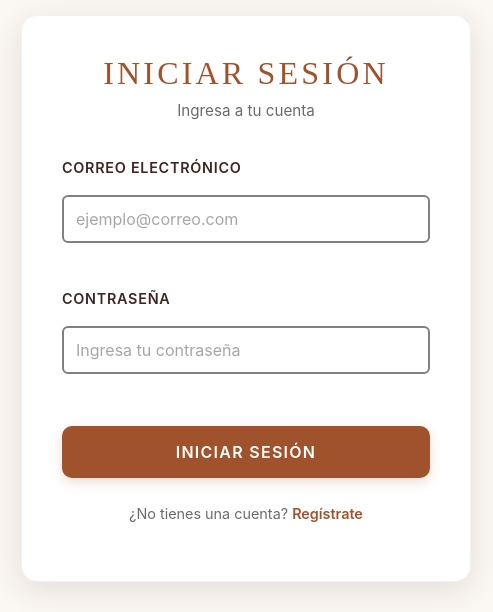
Scenario: Página de Login › debería deshabilitar el botón mientras se procesa el login
In the field labelled "Correo electrónico": (246, 218) [62, 194, 430, 242], type "test@example.com"
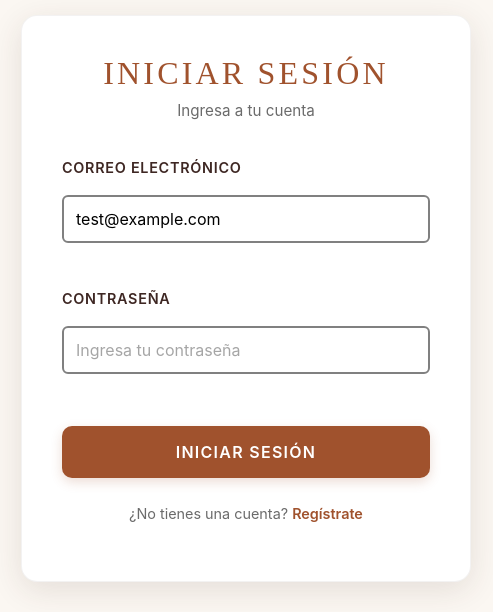
In the password field labelled "Contraseña": (246, 350) [62, 326, 430, 374], type "password123"
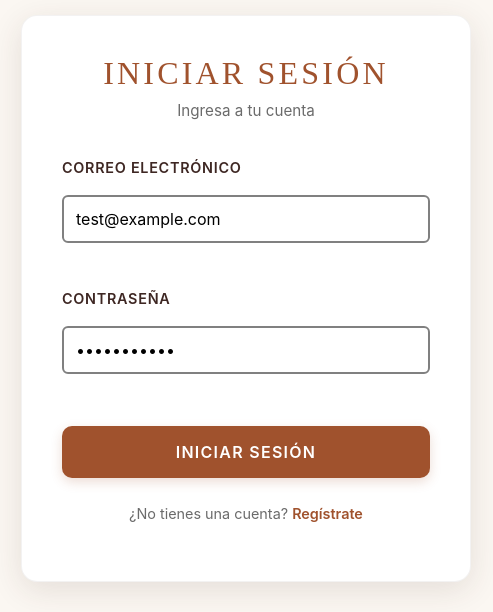
Click the button "Iniciar Sesión": (246, 452) [62, 426, 430, 478]
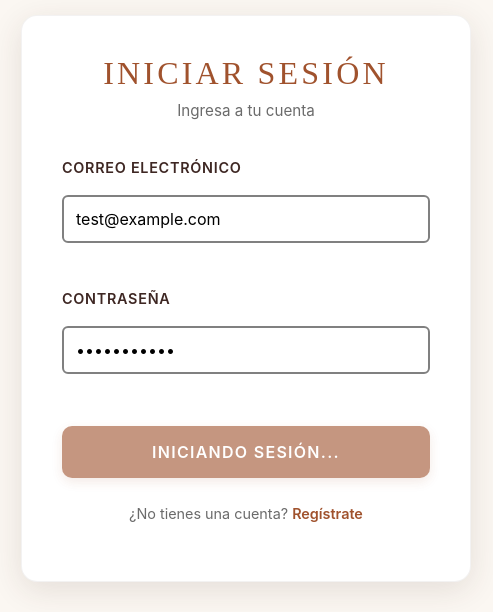
Now the button named "Iniciar Sesión" is disabled, box [62, 426, 430, 478]
